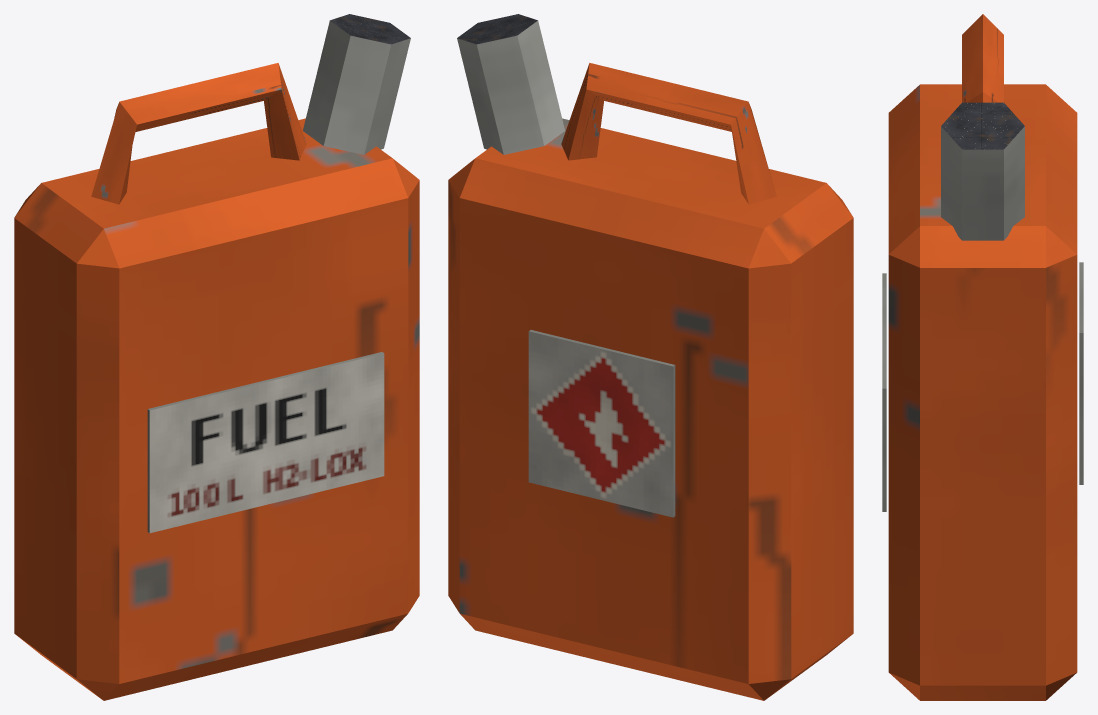
Rendered from Canister.fbx.
3 renders of one model, left to right at view 1: azimuth 30°, elevation 25°; view 2: azimuth 150°, elevation 25°; view 3: azimuth 270°, elevation 25°, orthographic.
Parts seen in each view (by area): view 1: Canister; view 2: Canister; view 3: Canister.
Boxes of the visible parts, <box> form: Canister: <box>14,14,419,700</box>; Canister: <box>448,14,853,700</box>; Canister: <box>882,14,1083,700</box>.
Bounding box in the file's own units: 0.3934 × 0.6191 × 0.192.
